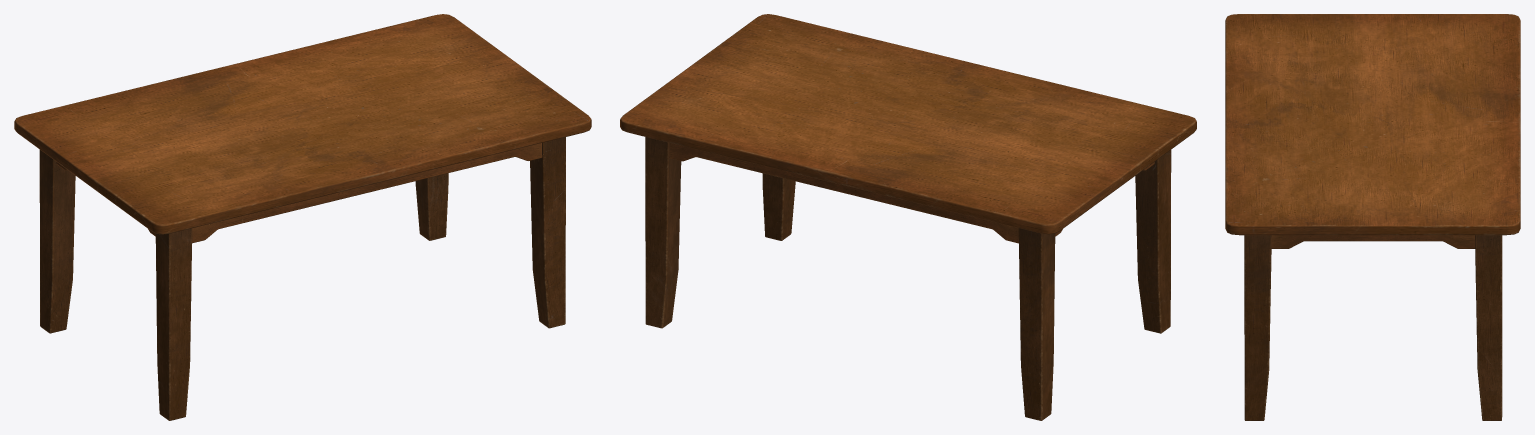
3 views of the same model, side by side, from view 1: azimuth 30°, elevation 25°; view 2: azimuth 150°, elevation 25°; view 3: azimuth 270°, elevation 25° (orthographic).
Visible parts, largest first — view 1: old_table; view 2: old_table; view 3: old_table.
Part boxes in pixels (box(x1,y1,x2,y2)): old_table: box(14, 14, 591, 420); old_table: box(620, 14, 1196, 420); old_table: box(1225, 14, 1520, 420).
Size of the model in its own units: 1.3 by 0.5846 by 0.7613.
Materials: 1 (1 with a texture image).
